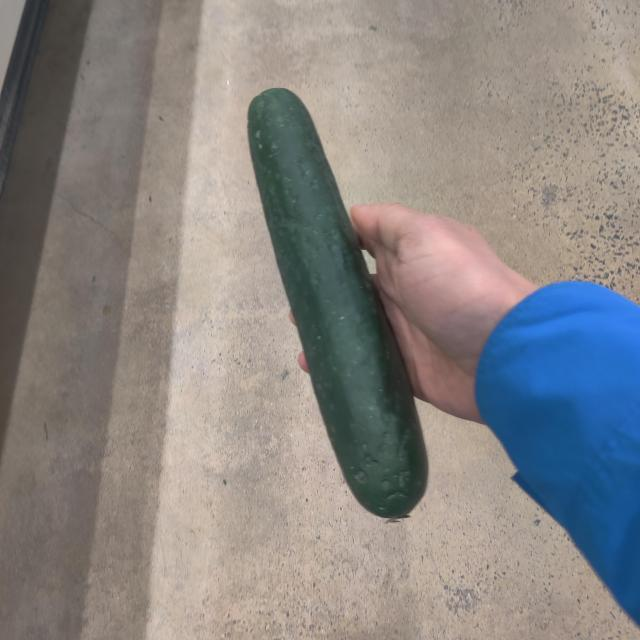Cucumber: (250, 87, 434, 527)
